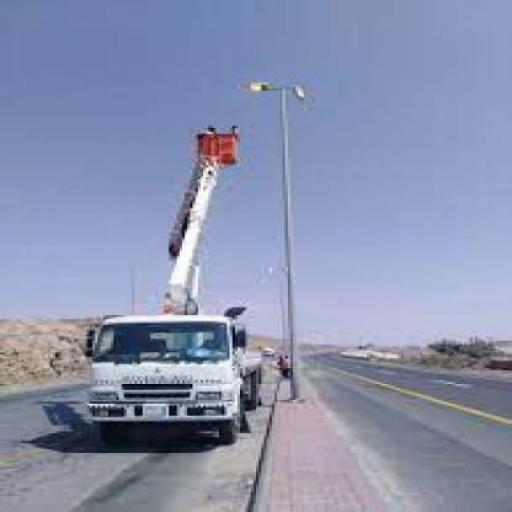street light: (248, 81, 306, 400)
